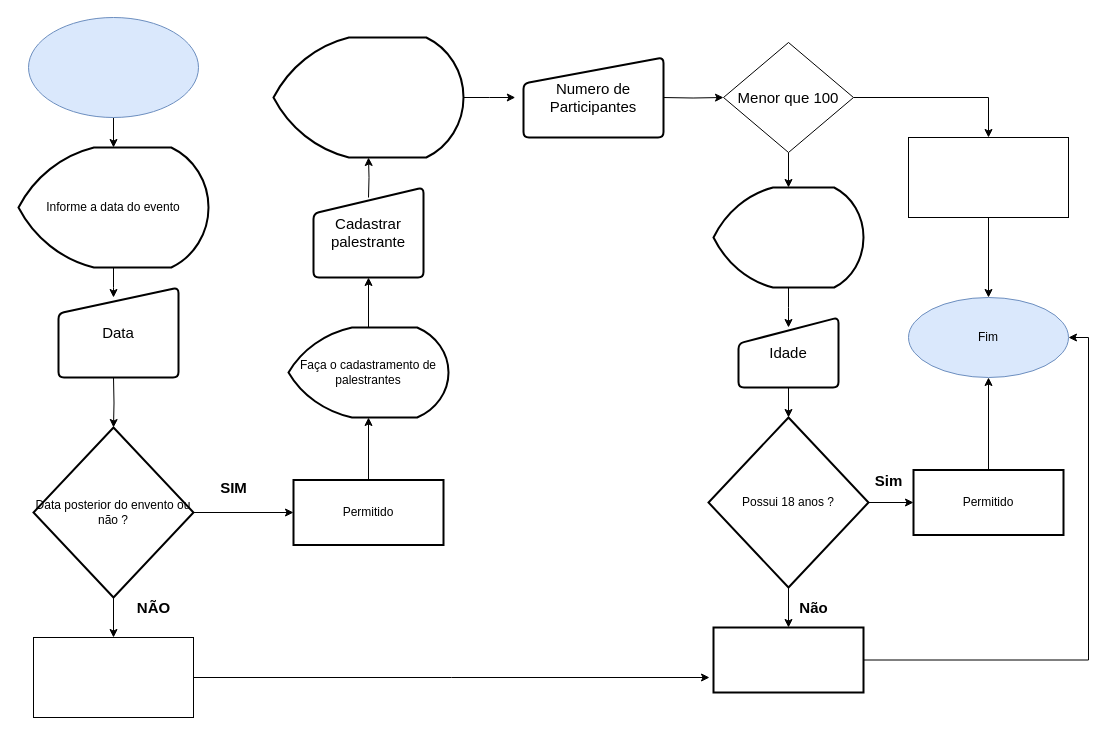
Image size: 1114x735. Some labels were removed from this diagram. Here are the shapes that lost their labels. From the top down, the centre of each, then its label:
At pixel 113 67: "Início".
At pixel 368 97: "Digite a Quantidade de participante".
At pixel 988 177: "Limite máximo atingido".
At pixel 788 237: "Informar idade".
At pixel 113 677: "Cadastro não permitido por data inválida".
At pixel 788 659: "Cadastro Não permitido".
